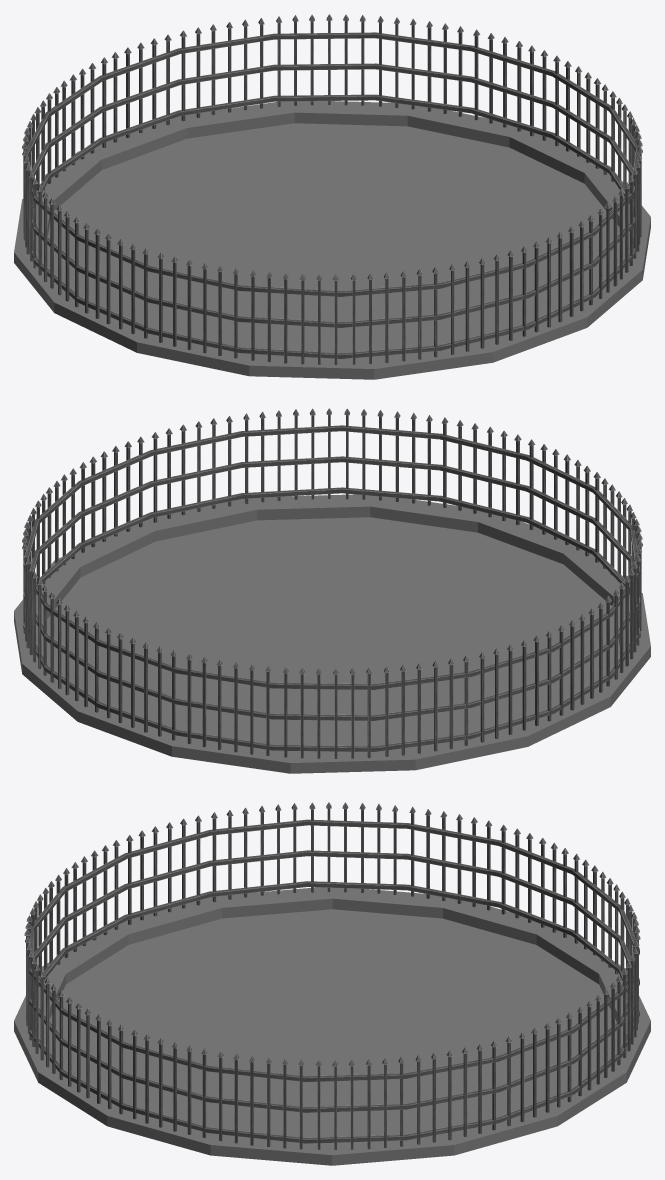
Rendered from fenceTree.fbx.
The picture shows the model from 3 angles, top to bottom: view 1: azimuth 30°, elevation 25°; view 2: azimuth 150°, elevation 25°; view 3: azimuth 270°, elevation 25°; orthographic projection.
Parts seen in each view (by area): view 1: Cube; view 2: Cube; view 3: Cube.
Part boxes in pixels (<box>): Cube: <box>14,14,650,379</box>; Cube: <box>14,408,650,773</box>; Cube: <box>14,802,650,1165</box>.
Bounding box in the file's own units: 13.25 × 2.29 × 13.25.
